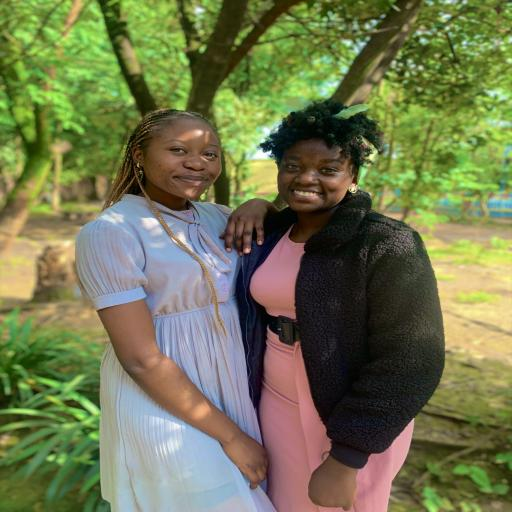LAURENE: (268, 103, 392, 233)
